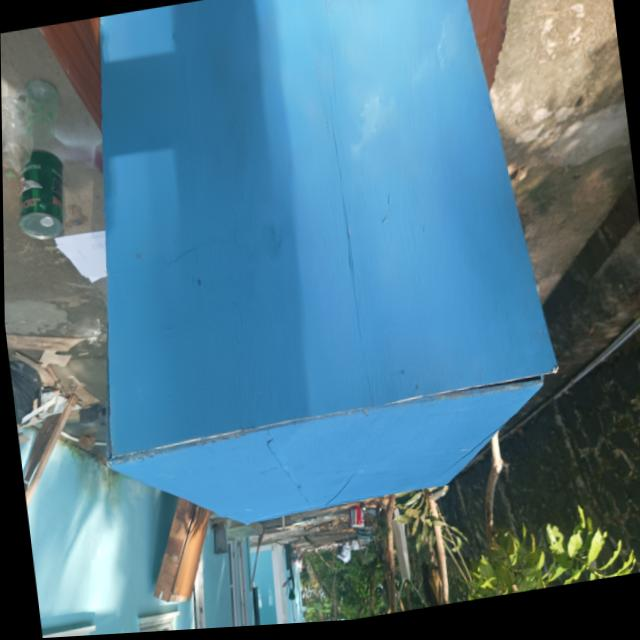blue_box: (41, 0, 570, 620)
